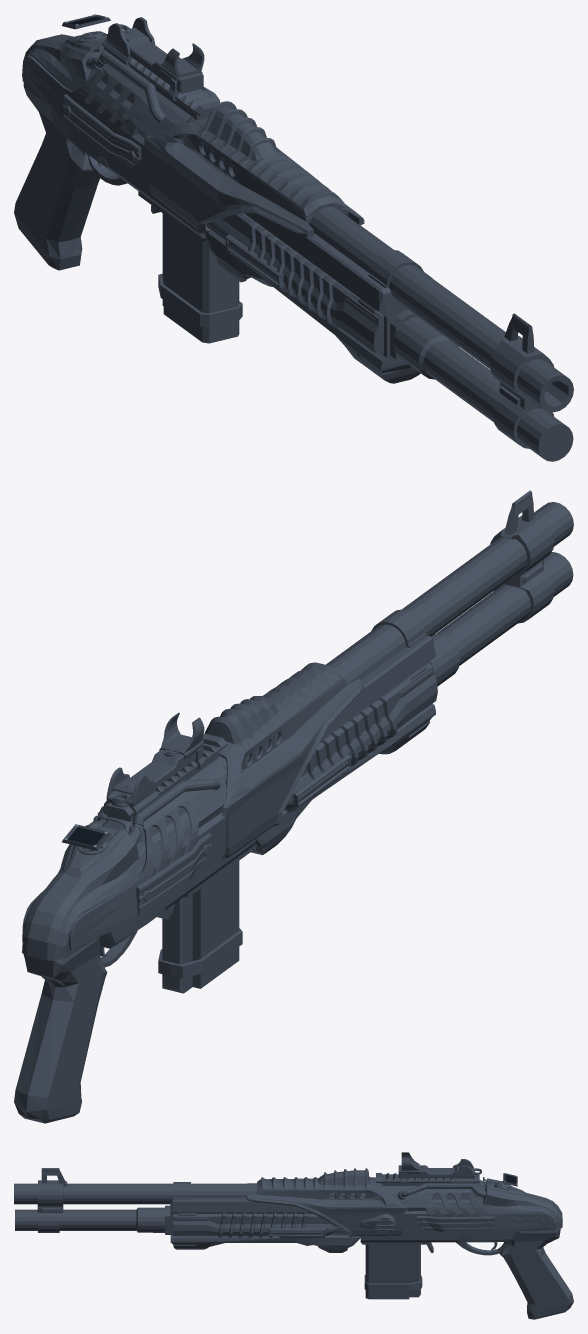
File: spikeshot_diegetic.obj
3 renders of one model, top to bottom at view 1: azimuth 30°, elevation 25°; view 2: azimuth 150°, elevation 25°; view 3: azimuth 270°, elevation 25°, orthographic. The views are drawn at different scales.
Parts seen in each view (by area): view 1: spikeshot_Diegetic; view 2: spikeshot_Diegetic; view 3: spikeshot_Diegetic.
Part boxes in pixels (<box>): spikeshot_Diegetic: <box>14,14,573,461</box>; spikeshot_Diegetic: <box>14,490,573,1123</box>; spikeshot_Diegetic: <box>14,1152,573,1319</box>.
Size of the model in its own units: 7.24 by 22.79 by 71.42.
